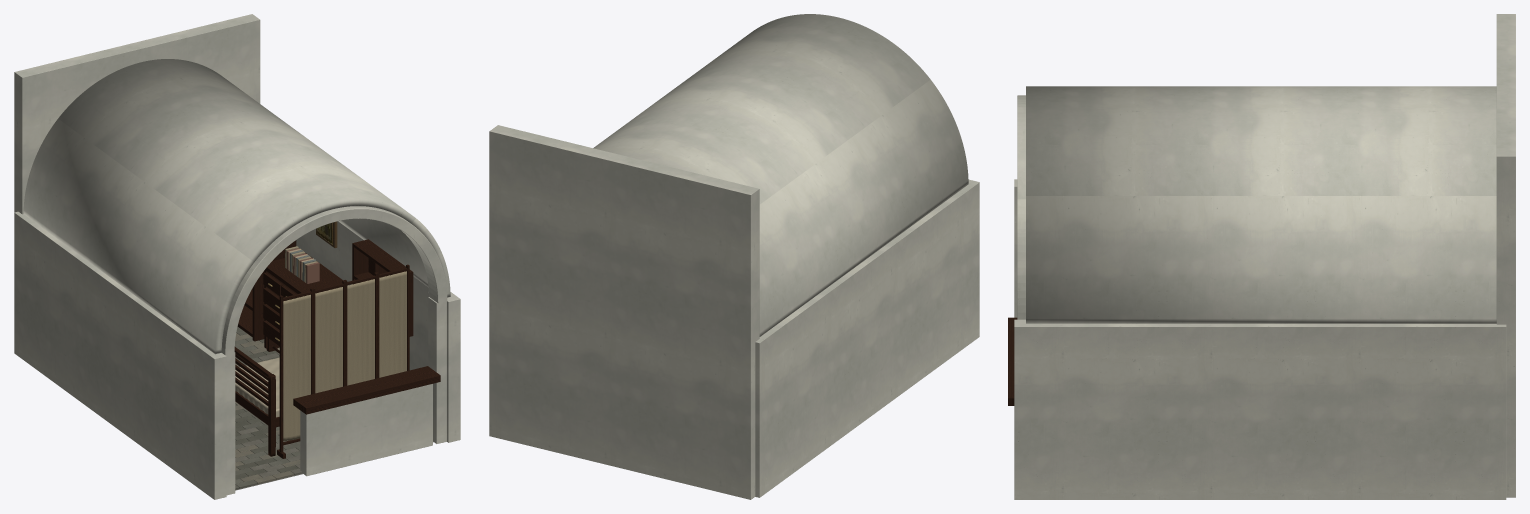
The model's file is zaoyuan_bedroom.glb.
The picture shows the model from 3 angles, left to right: view 1: azimuth 30°, elevation 25°; view 2: azimuth 150°, elevation 25°; view 3: azimuth 270°, elevation 25°; orthographic projection. The views are drawn at different scales.
Visible parts, largest first — view 1: bedroom_photo_interior; view 2: bedroom_photo_interior; view 3: bedroom_photo_interior.
Part boxes in pixels (x1=…): bedroom_photo_interior: x1=14, y1=14, x2=460, y2=499; bedroom_photo_interior: x1=489, y1=14, x2=979, y2=499; bedroom_photo_interior: x1=1008, y1=14, x2=1515, y2=499.
Size of the model in its own units: 3.62 by 3.92 by 5.26.
Materials: 21 (11 with a texture image).
